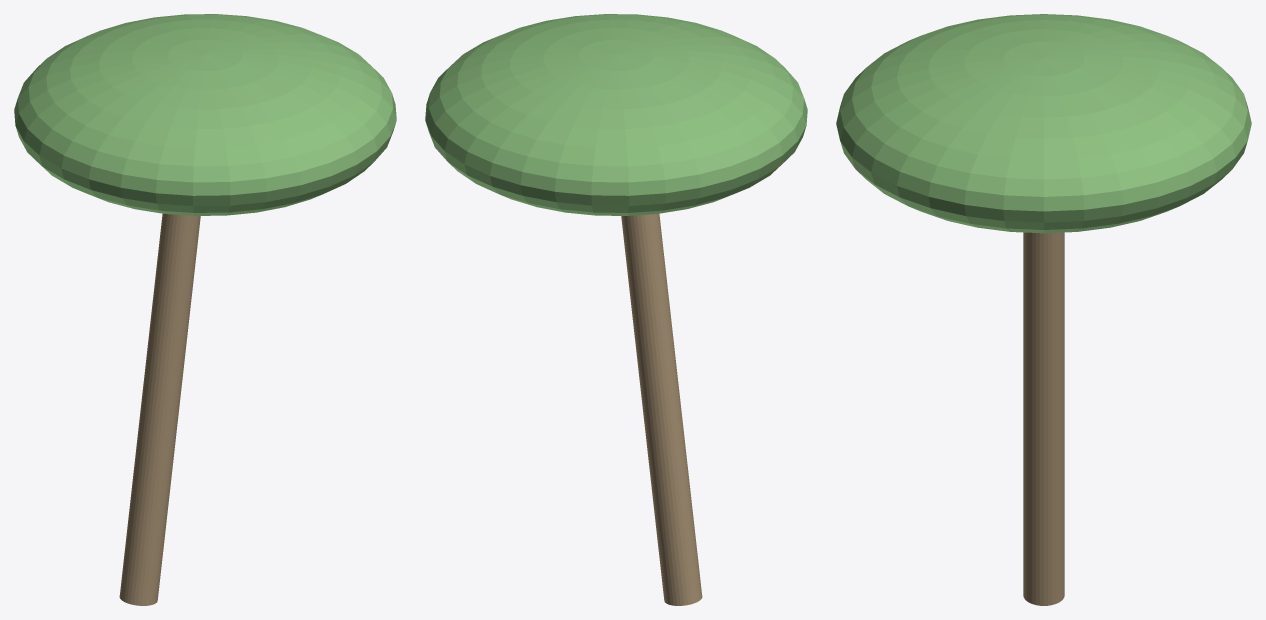
The model's file is gourd-posed-palm-b.glb.
The picture shows the model from 3 angles, left to right: view 1: azimuth 30°, elevation 25°; view 2: azimuth 150°, elevation 25°; view 3: azimuth 270°, elevation 25°; orthographic projection. The views are drawn at different scales.
Parts seen in each view (by area): view 1: Sphere; view 2: Sphere; view 3: Sphere.
Part boxes in pixels (x1,y1,x2,y2): Sphere: (14, 14, 396, 605); Sphere: (425, 14, 807, 605); Sphere: (836, 14, 1251, 605).
Bounding box in the file's own units: 0.3 × 0.4577 × 0.3.
